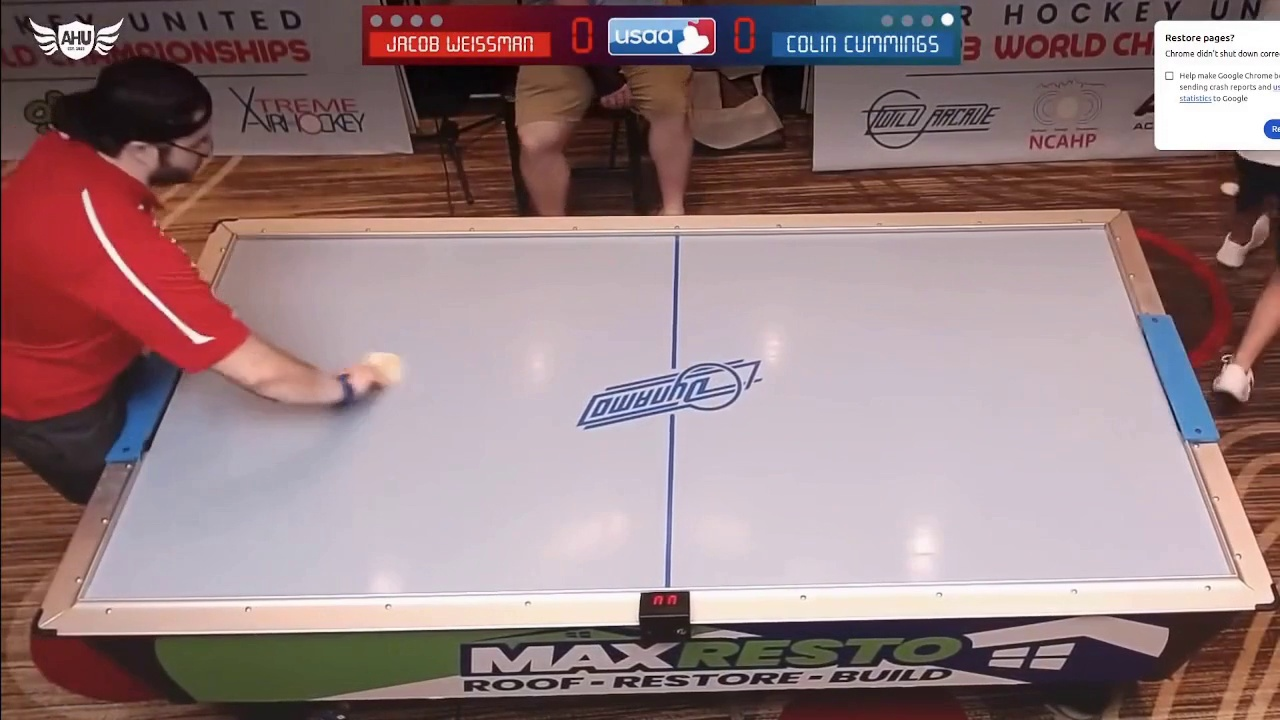player: (355, 350, 407, 388)
table: (88, 204, 1252, 621)
